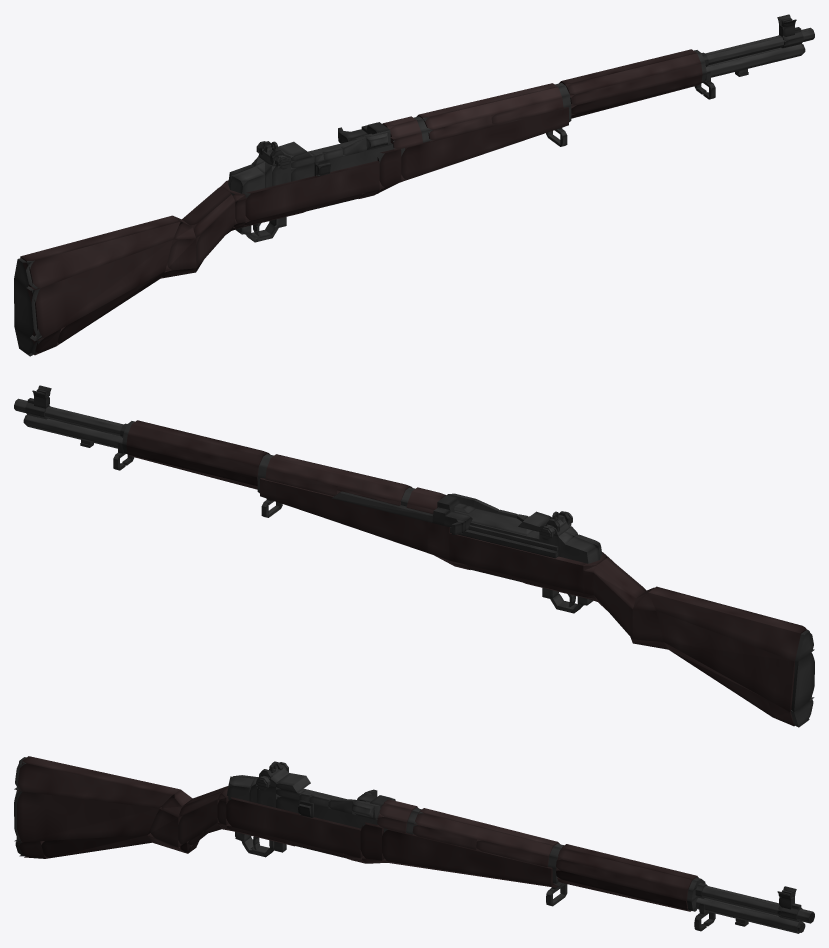
File: m1garand.obj
The picture shows the model from 3 angles, top to bottom: view 1: azimuth 30°, elevation 25°; view 2: azimuth 150°, elevation 25°; view 3: azimuth 330°, elevation 25°; orthographic projection.
Visible parts, largest first — view 1: gunModel40, gunModel41, gunModel5, gunModel0, gunModel13, gunModel20, gunModel21, gunModel22, gunModel32, gunModel46, gunModel53, gunModel42 (+8 smaller); view 2: gunModel40, gunModel41, gunModel5, gunModel0, gunModel13, gunModel20, gunModel21, gunModel22, gunModel32, gunModel42, gunModel31, gunModel46 (+9 smaller); view 3: gunModel40, gunModel41, gunModel5, gunModel0, gunModel13, gunModel20, gunModel21, gunModel42, gunModel22, gunModel31, gunModel53, gunModel115 (+17 smaller).
Boxes of the visible parts, left/top/right/bottom form: gunModel40: left=26, top=240, right=172, bottom=340; gunModel41: left=20, top=215, right=180, bottom=290; gunModel5: left=401, top=107, right=568, bottom=181; gunModel0: left=227, top=160, right=379, bottom=221; gunModel13: left=416, top=83, right=561, bottom=130; gunModel20: left=559, top=49, right=700, bottom=95; gunModel21: left=565, top=64, right=702, bottom=106; gunModel22: left=570, top=74, right=702, bottom=114; gunModel32: left=182, top=186, right=235, bottom=238; gunModel46: left=14, top=279, right=40, bottom=341; gunModel53: left=291, top=140, right=404, bottom=181; gunModel42: left=56, top=271, right=164, bottom=345; gunModel40: left=656, top=611, right=795, bottom=711; gunModel41: left=648, top=586, right=806, bottom=661; gunModel5: left=260, top=478, right=427, bottom=552; gunModel0: left=449, top=533, right=586, bottom=592; gunModel13: left=267, top=454, right=412, bottom=501; gunModel20: left=128, top=420, right=269, bottom=466; gunModel21: left=126, top=435, right=258, bottom=477; gunModel22: left=126, top=445, right=257, bottom=485; gunModel32: left=593, top=557, right=646, bottom=609; gunModel42: left=664, top=642, right=772, bottom=716; gunModel31: left=593, top=573, right=644, bottom=638; gunModel46: left=791, top=652, right=814, bottom=712; gunModel40: left=17, top=791, right=159, bottom=842; gunModel41: left=17, top=756, right=180, bottom=808; gunModel5: left=382, top=829, right=553, bottom=886; gunModel0: left=226, top=797, right=363, bottom=857; gunModel13: left=414, top=808, right=559, bottom=856; gunModel20: left=557, top=844, right=698, bottom=890; gunModel21: left=556, top=858, right=687, bottom=900; gunModel42: left=41, top=835, right=152, bottom=858; gunModel22: left=556, top=869, right=687, bottom=909; gunModel31: left=178, top=800, right=219, bottom=844; gunModel53: left=276, top=797, right=387, bottom=832; gunModel115: left=476, top=840, right=549, bottom=866.
Size of the model in its own units: 33.3 by 6.02 by 2.15.
